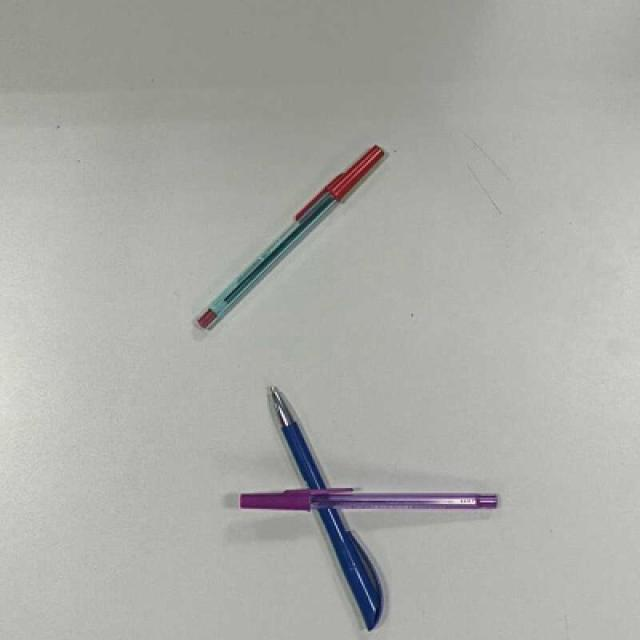caneta: (192, 140, 388, 332), (263, 379, 398, 630), (241, 489, 498, 511)
